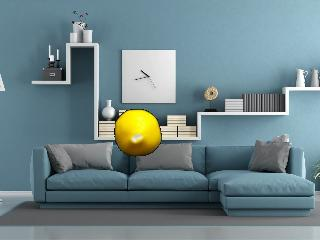lemon: (115, 110, 160, 156)
